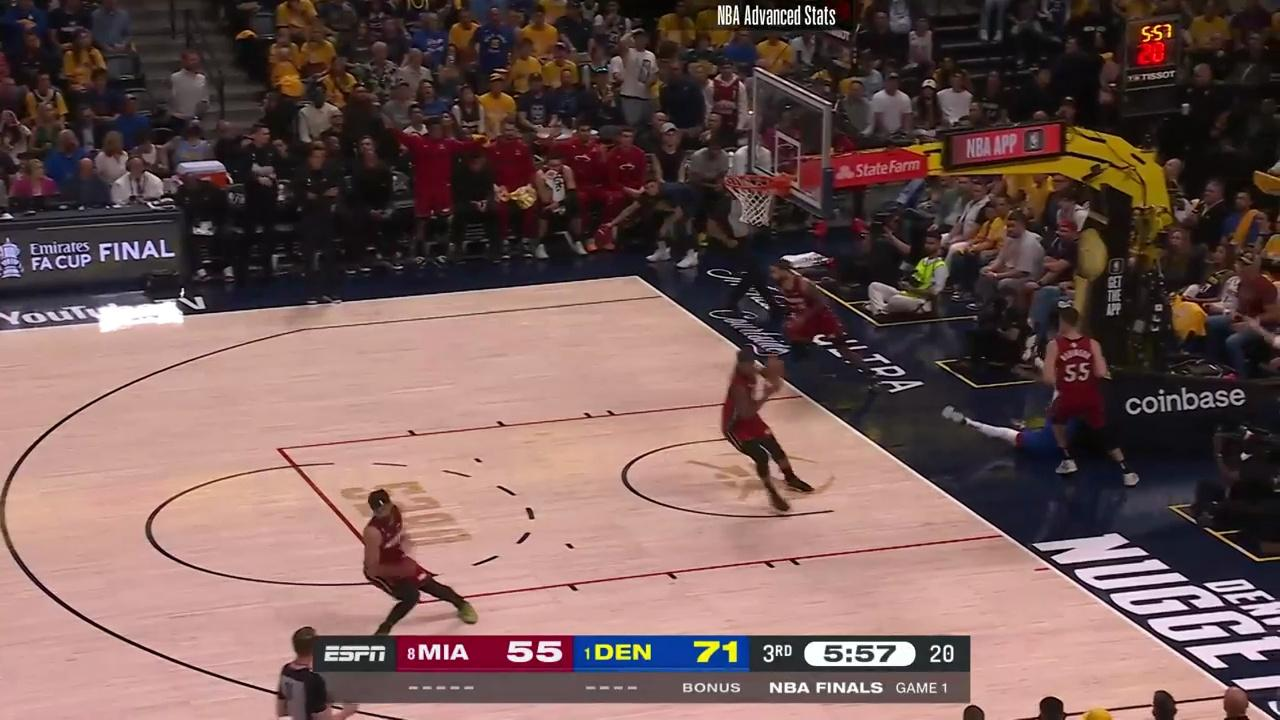Backboard: (739, 77, 826, 217)
Ball: (762, 355, 784, 380)
Basket: (721, 172, 786, 228)
Person: (354, 485, 487, 641), (715, 341, 830, 520), (759, 254, 893, 397), (1041, 295, 1119, 485)
Referee: (268, 628, 360, 720)
Shot Clock: (1122, 14, 1185, 114)
